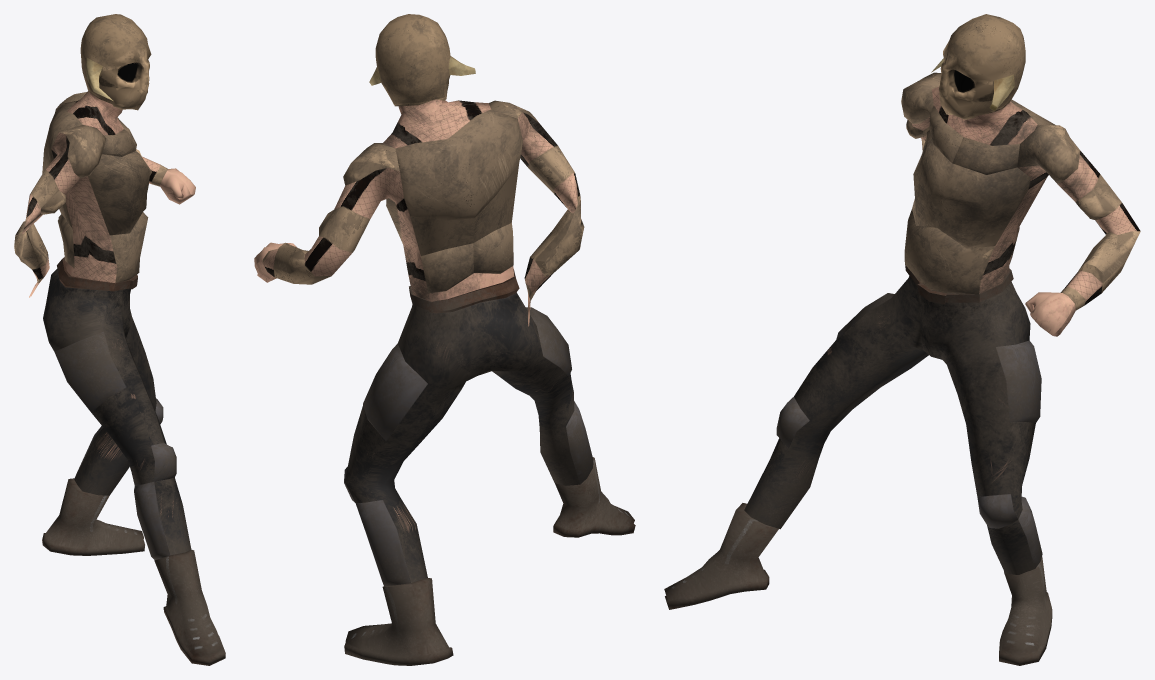
File: Anim_ataque_f2_npc1.0024.obj
3 views of the same model, side by side, from view 1: azimuth 30°, elevation 25°; view 2: azimuth 150°, elevation 25°; view 3: azimuth 270°, elevation 25° (orthographic). The views are drawn at different scales.
Visible parts, largest first — view 1: NPC2; view 2: NPC2; view 3: NPC2.
Boxes of the visible parts, box(x1,y1,x2,y2) form: NPC2: box(14, 14, 225, 665); NPC2: box(254, 14, 635, 665); NPC2: box(664, 14, 1140, 665).
Bounding box in the file's own units: 4.03 × 9.08 × 6.29.
